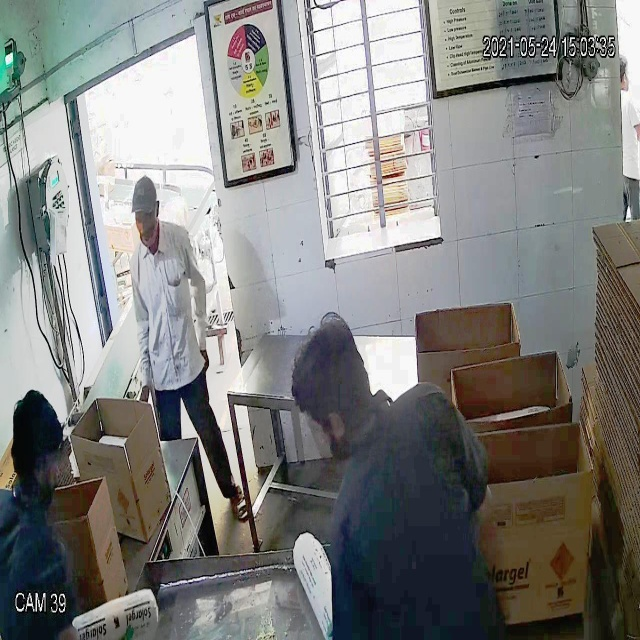Sin_gafas: (132, 207, 157, 231)
